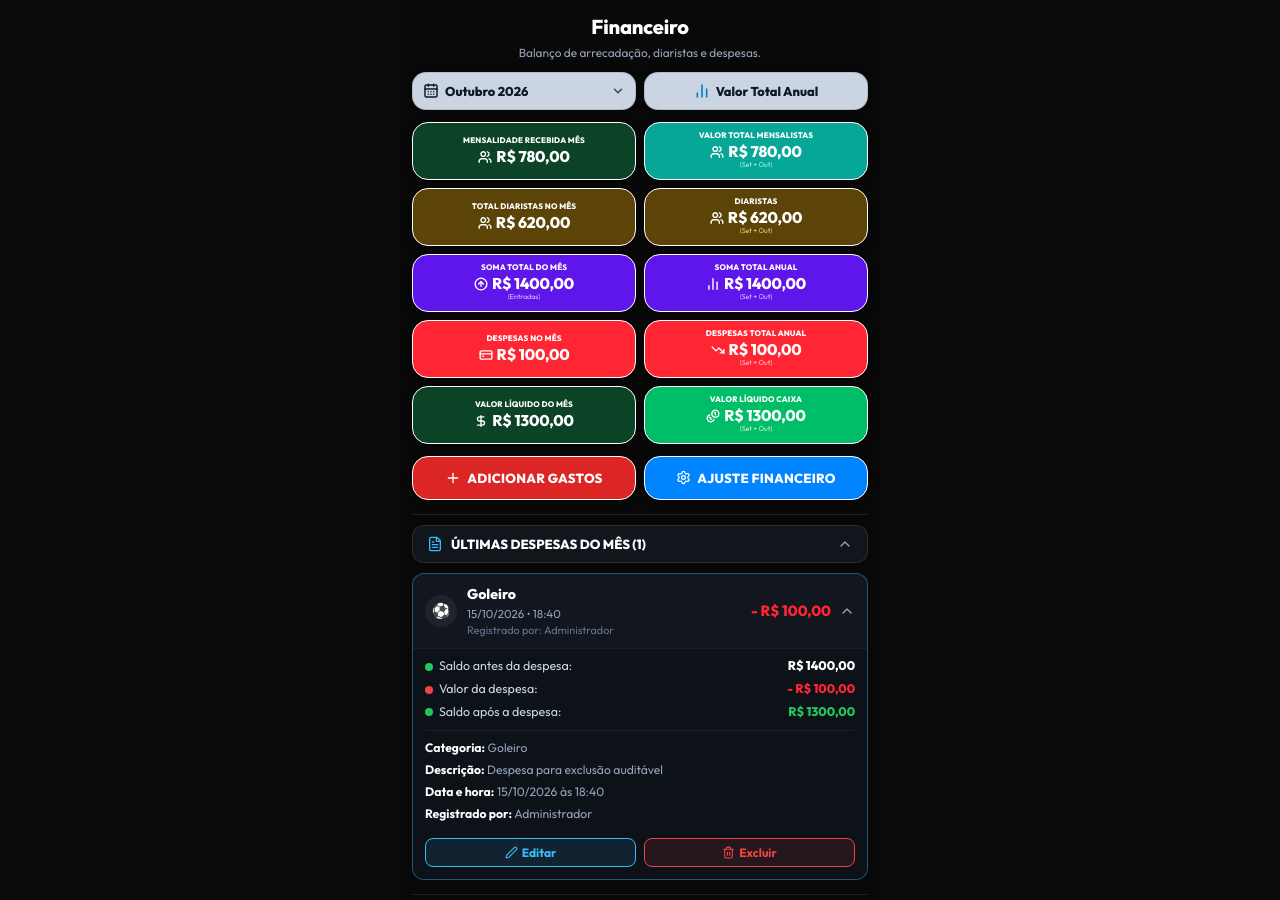
RDA — Etapa Financeira: Histórico Detalhado, Saldos Dinâmicos, Ajustes Mensais e Diretos no Caixa › 12. Exclusão auditável de despesa exige justificativa e confirmação explícita
What coordinates should you click on to do the following:
click the button "Excluir"
I would click on:
 (750, 852)
Its box is [644, 838, 855, 866].
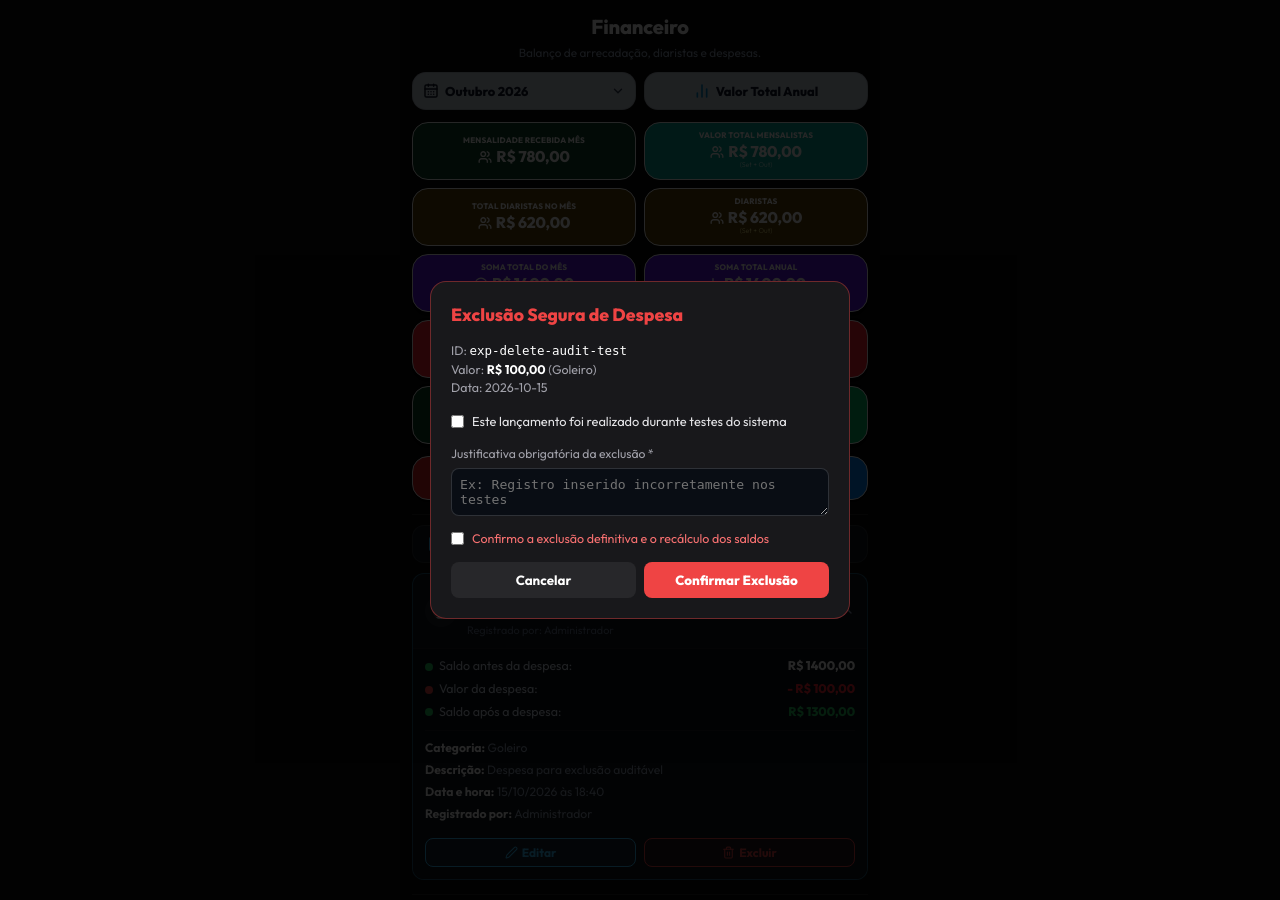
Expected: the heading "Exclusão Segura de Despesa" is shown, [451, 303, 683, 326]
Expected: the text "exp-delete-audit-test" is shown, [469, 343, 627, 358]
Expected: the text box with placeholder "Ex: Registro inserido incorretamente nos testes" is shown, [451, 468, 829, 516]
